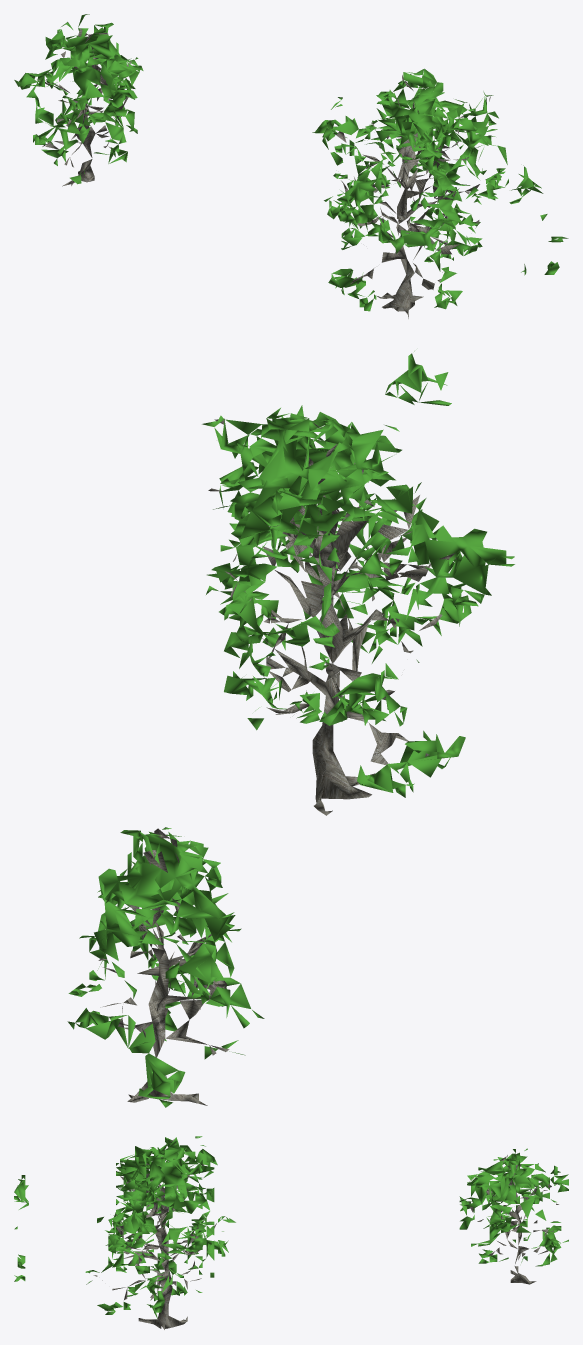
File: tile_-1_0.gltf
The picture shows the model from 3 angles, top to bottom: view 1: azimuth 30°, elevation 25°; view 2: azimuth 150°, elevation 25°; view 3: azimuth 270°, elevation 25°; orthographic projection. The views are drawn at different scales.
Visible parts, largest first — view 1: Bodhi Tree_Bodhi_front_2_Mat_0.044@tile_-1_0; view 2: Bodhi Tree_Bodhi_front_2_Mat_0.044@tile_-1_0; view 3: Bodhi Tree_Bodhi_front_2_Mat_0.044@tile_-1_0.
Part boxes in pixels (x1=…): Bodhi Tree_Bodhi_front_2_Mat_0.044@tile_-1_0: x1=14, y1=14, x2=568, y2=318; Bodhi Tree_Bodhi_front_2_Mat_0.044@tile_-1_0: x1=67, y1=351, x2=514, y2=1107; Bodhi Tree_Bodhi_front_2_Mat_0.044@tile_-1_0: x1=14, y1=1136, x2=568, y2=1329.
Bounding box in the file's own units: 18.67 × 16.57 × 43.56.
Materials: 2 (1 with a texture image).
